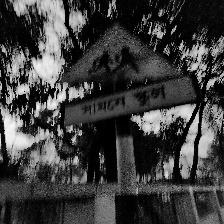School-in-front: (57, 20, 196, 128)
